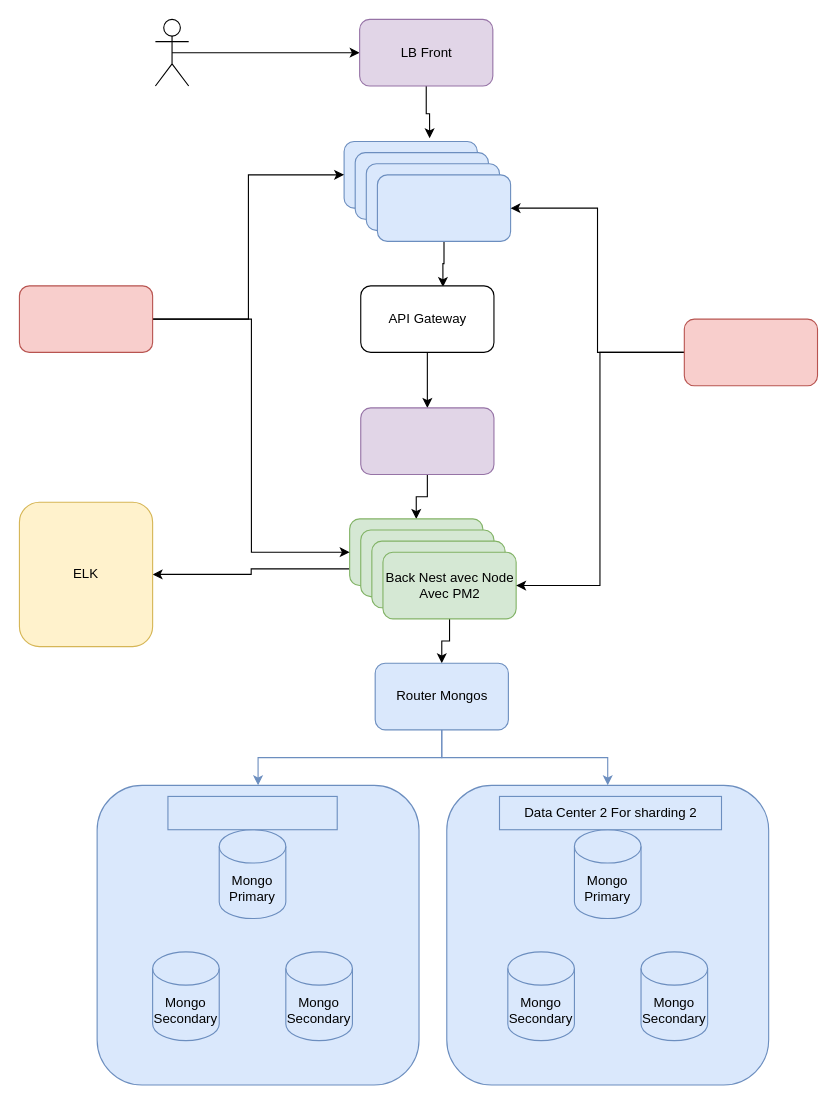
This 837x1104 diagram has some shape labels left out. Each missing label, with the box of its shape:
Actor: (154, 18, 189, 86)
Data Center 1 For sharing 1: (167, 795, 337, 830)
Dynatrace: (18, 285, 153, 352)
Front Angular: (376, 174, 511, 241)
LB Back: (360, 407, 494, 475)
Shinken/Centreon: (683, 318, 818, 386)
